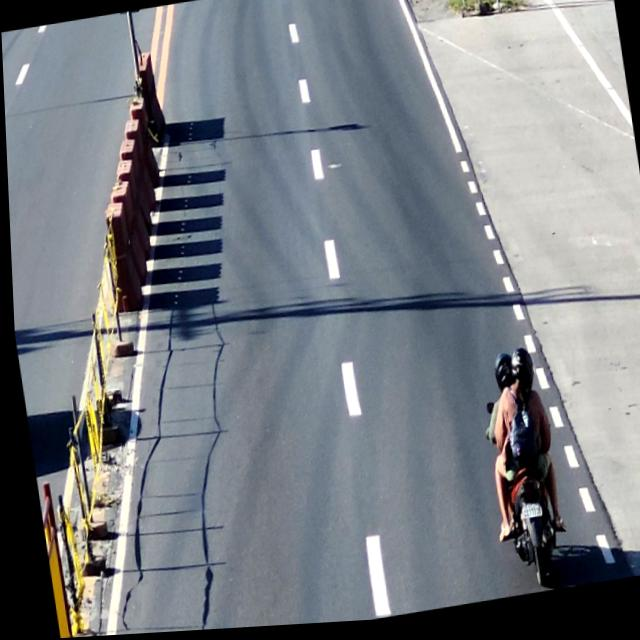License-Plate: (513, 505, 540, 528)
Motorcycle: (465, 348, 573, 604)
